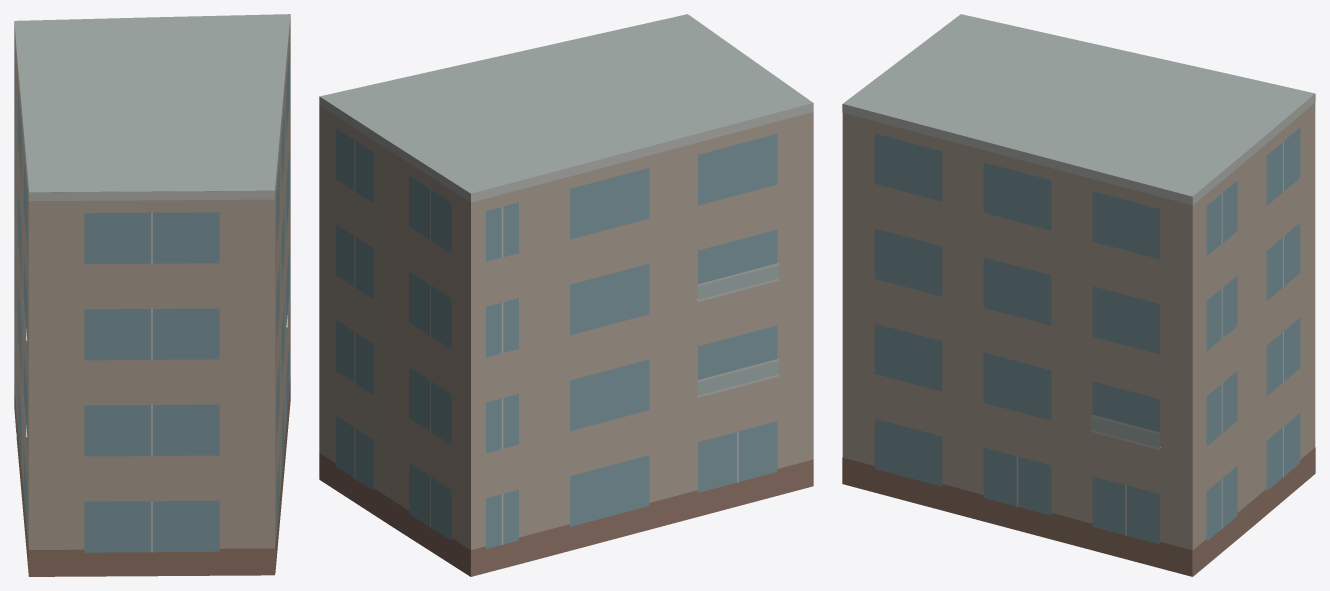
Rendered from survey-upis-32727972.glb.
3 renders of one model, left to right at view 1: azimuth 30°, elevation 25°; view 2: azimuth 150°, elevation 25°; view 3: azimuth 270°, elevation 25°, orthographic.
Visible parts, largest first — view 1: survey-upis-32727972.tmp; view 2: survey-upis-32727972.tmp; view 3: survey-upis-32727972.tmp.
Boxes of the visible parts, left/top/right/bottom form: survey-upis-32727972.tmp: left=14, top=14, right=290, bottom=576; survey-upis-32727972.tmp: left=319, top=14, right=813, bottom=576; survey-upis-32727972.tmp: left=842, top=14, right=1315, bottom=576.
Size of the model in its own units: 10.83 by 10.5 by 11.85.
